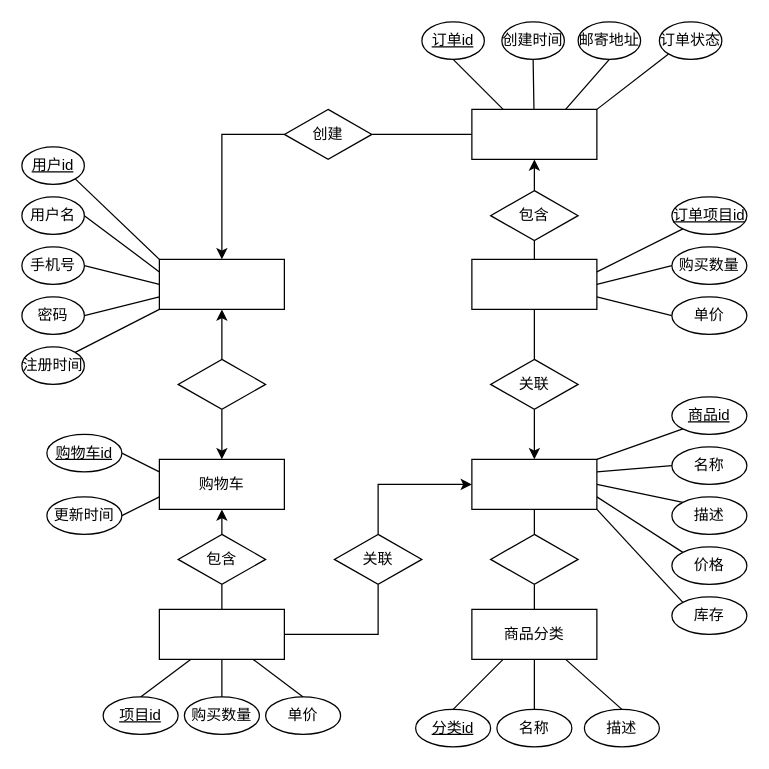
Image size: 769x769. Some labels were removed from this diagram. Here are the shapes that lost their labels. From the top down, the centre of each, then its label:
(534,133): 订单
(221,283): 用户
(534,283): 订单项目
(221,383): 拥有
(534,483): 商品
(533,558): 属于
(221,633): 购物车项目
